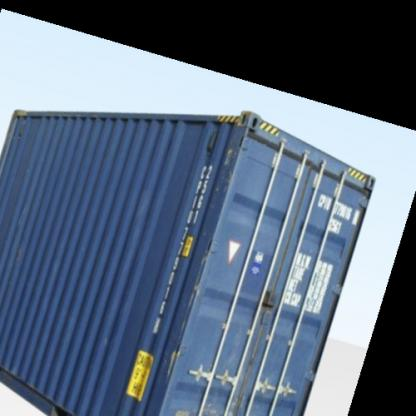Damage: (204, 122, 252, 205), (184, 244, 214, 326), (6, 200, 38, 276)
